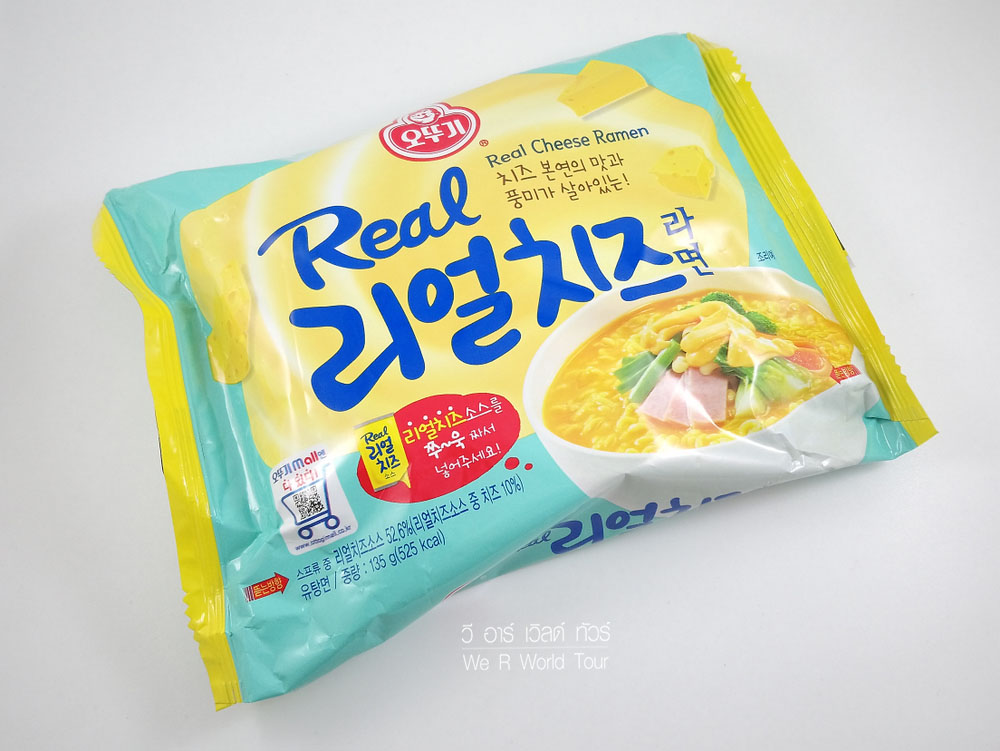Snack: (93, 24, 944, 718)
